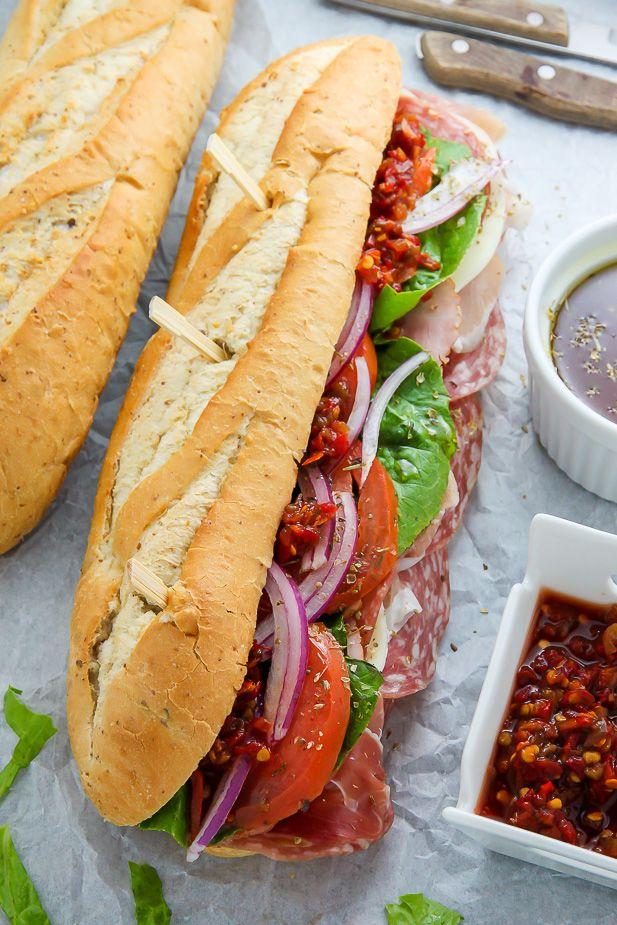sandwich: (40, 17, 617, 858)
